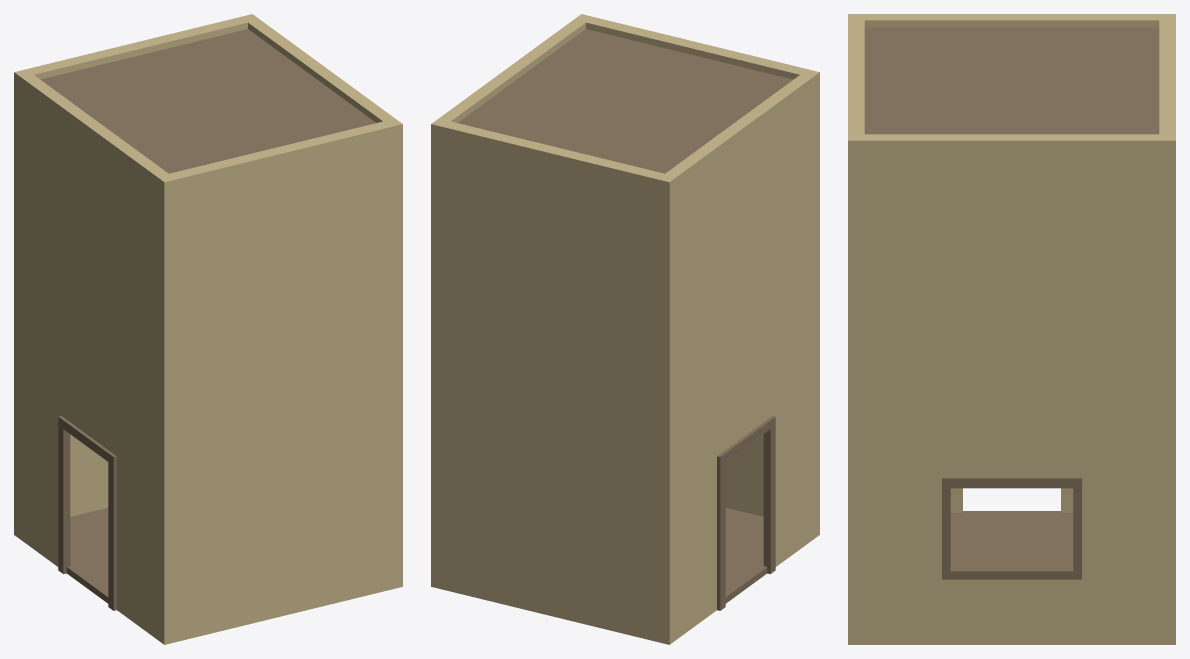
Rendered from HighBuilding1-2.fbx.
3 renders of one model, left to right at view 1: azimuth 30°, elevation 25°; view 2: azimuth 150°, elevation 25°; view 3: azimuth 270°, elevation 25°, orthographic. The views are drawn at different scales.
Visible parts, largest first — view 1: HighBuilding1.001_LOD0; view 2: HighBuilding1.001_LOD0; view 3: HighBuilding1.001_LOD0.
Part boxes in pixels (x1,y1,x2,y2): HighBuilding1.001_LOD0: [14, 14, 402, 644]; HighBuilding1.001_LOD0: [431, 14, 819, 644]; HighBuilding1.001_LOD0: [848, 14, 1175, 644].
Size of what is drawn, in the model's own units: 793 by 1436 by 846.
1 material, 1 textured.
